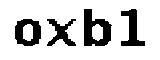1: (118, 4, 147, 48)
b: (80, 5, 113, 51)
o: (11, 18, 43, 49)
x: (44, 16, 78, 51)
